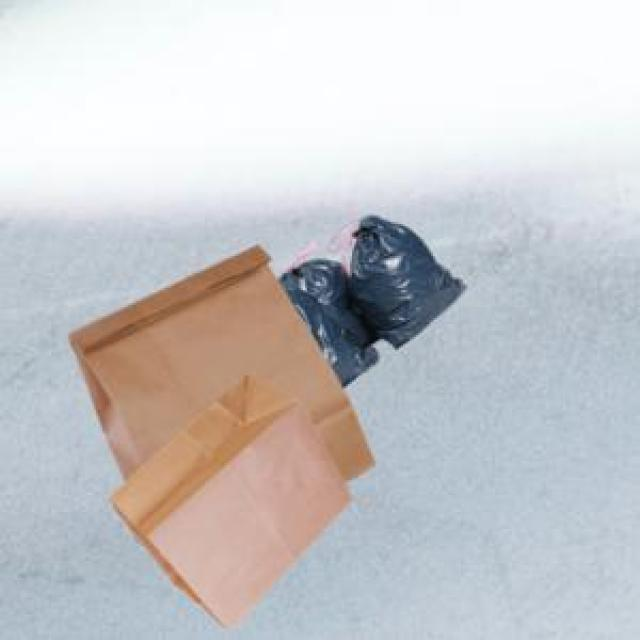miscellaneous trash: (273, 211, 461, 384)
paper: (64, 241, 371, 478), (105, 371, 348, 627)
